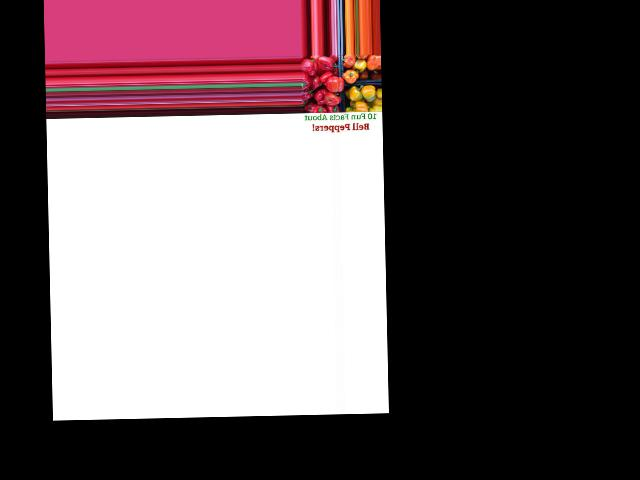bell_pepper: (309, 101, 331, 115)
